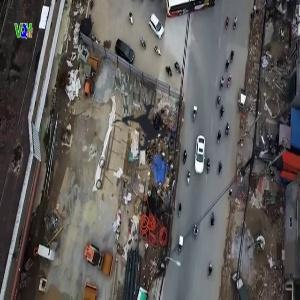drone: (94, 80, 195, 181)
